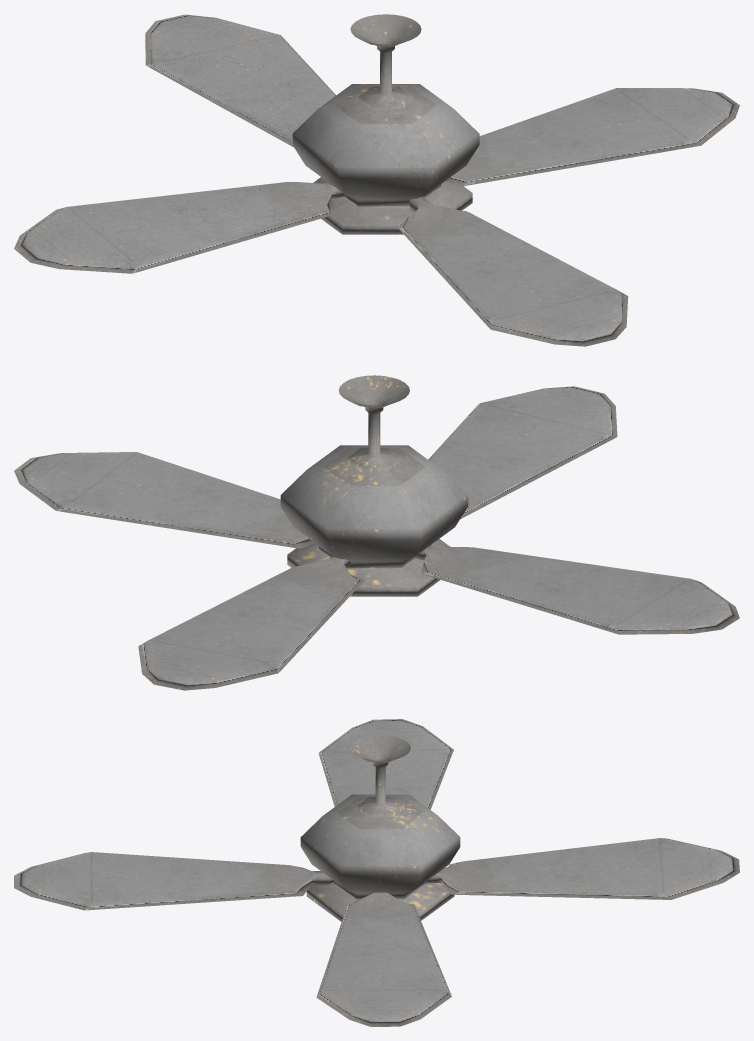
Rendered from fan_final.fbx.
3 renders of one model, top to bottom at view 1: azimuth 30°, elevation 25°; view 2: azimuth 150°, elevation 25°; view 3: azimuth 270°, elevation 25°, orthographic. The views are drawn at different scales.
Visible parts, largest first — view 1: fan_base, fan_blade3, fan_blade, fan_blade1, fan_blade2; view 2: fan_base, fan_blade3, fan_blade1, fan_blade2, fan_blade; view 3: fan_base, fan_blade2, fan_blade, fan_blade1, fan_blade3.
Boxes of the visible parts, x1,y1,x2,y2 form: fan_base: [292, 14, 479, 234]; fan_blade3: [14, 182, 347, 273]; fan_blade: [397, 197, 628, 346]; fan_blade1: [446, 88, 739, 186]; fan_blade2: [145, 14, 335, 147]; fan_base: [280, 375, 468, 596]; fan_blade3: [413, 545, 739, 634]; fan_blade1: [14, 452, 314, 548]; fan_blade2: [138, 556, 364, 690]; fan_blade: [428, 386, 617, 518]; fan_base: [300, 735, 460, 921]; fan_blade2: [424, 838, 739, 899]; fan_blade: [14, 852, 334, 910]; fan_blade1: [316, 892, 451, 1026]; fan_blade3: [318, 719, 453, 809].
Bounding box in the file's own units: 37.11 × 10.07 × 38.59.
1 material, 1 textured.
